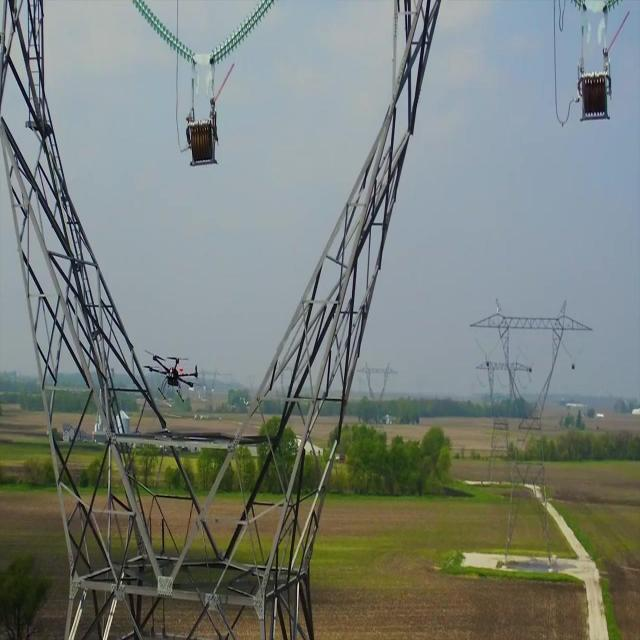UAV: (143, 347, 198, 402)
